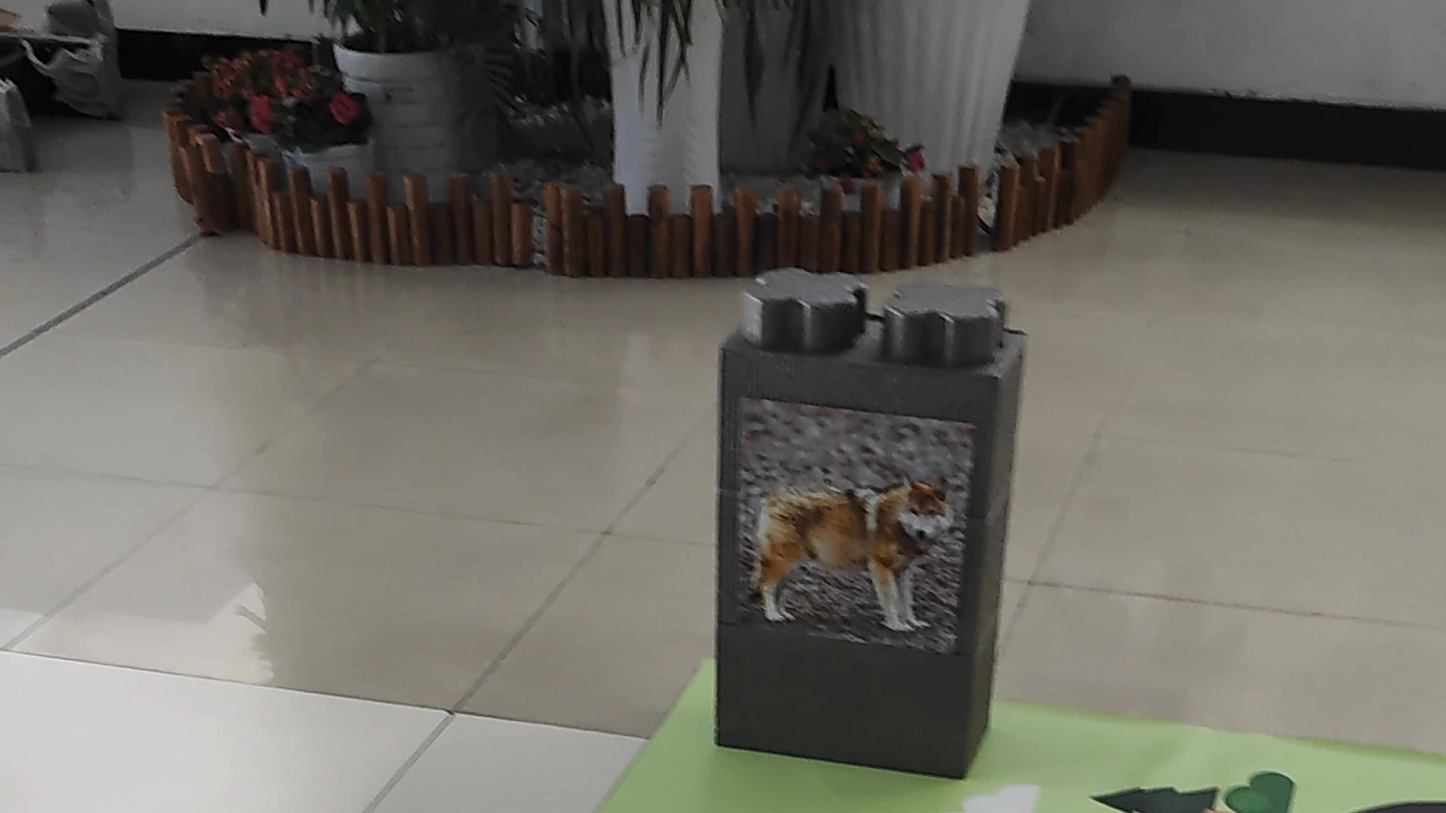wolf: (742, 440, 972, 668)
